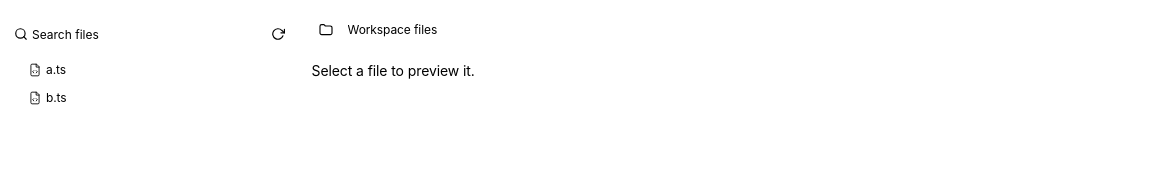
Test: workspace files panel request ownership › keeps a different selected file when an earlier page finishes
The image size is (1152, 178).
Click the text with class "workspace-files__name" showing "a.ts".
click(56, 69)  # box [46,62,66,77]
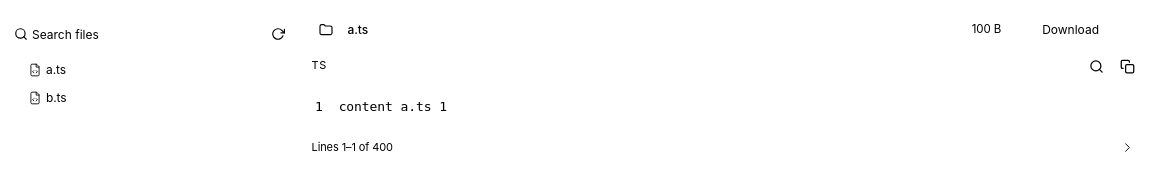
Click the button with class "workspace-file__more".
click(1128, 147)  # box [1115,133,1140,161]
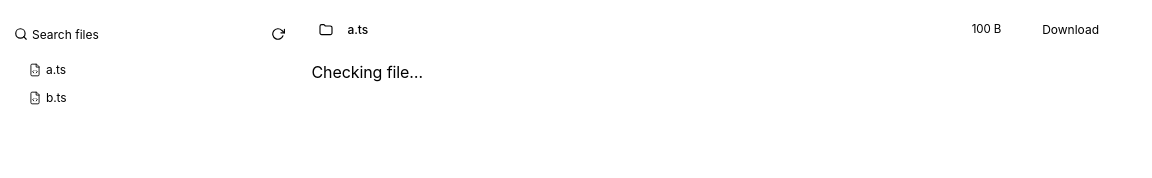
Click the text with class "workspace-files__name" showing "b.ts".
click(56, 97)  # box [46,90,67,105]
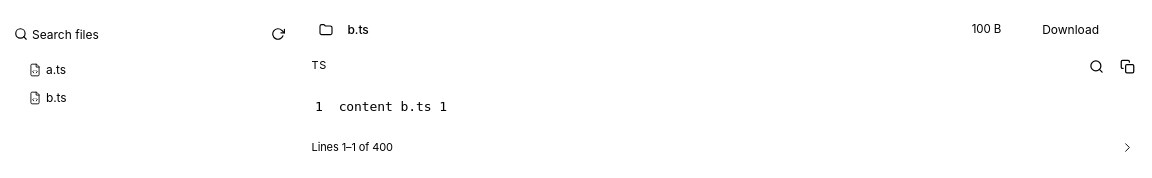
Now the element showing "1 content b.ts 1" is shown, box [315,99,447,114]
